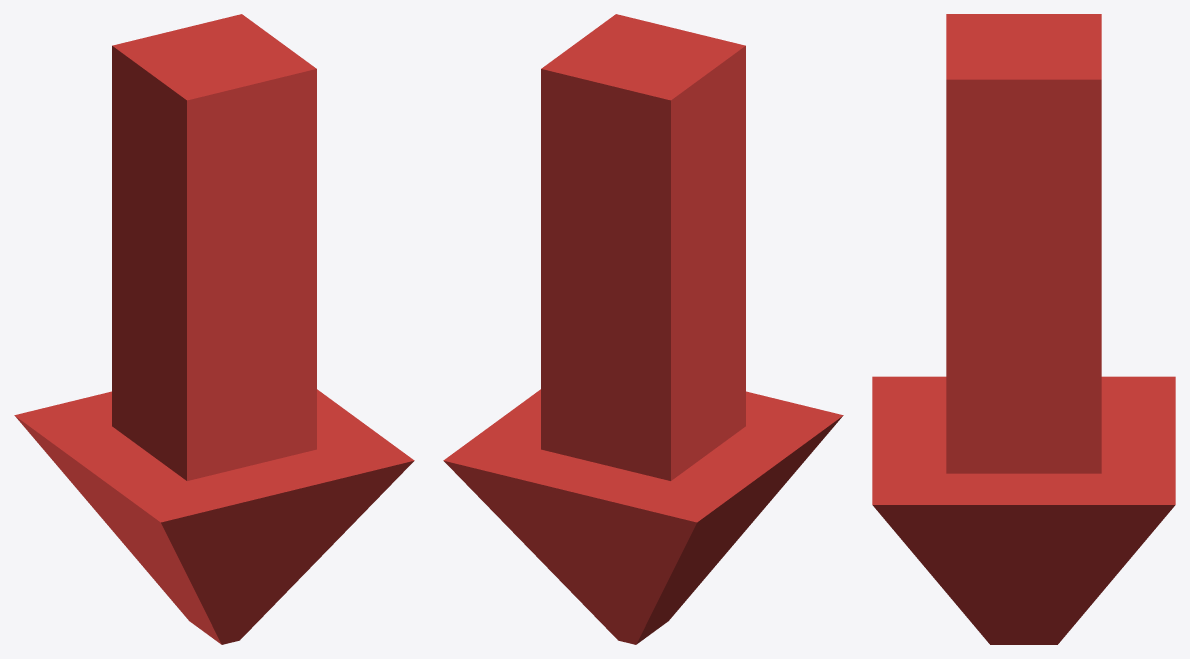
The model's file is Event-Arrow.fbx.
3 views of the same model, side by side, from view 1: azimuth 30°, elevation 25°; view 2: azimuth 150°, elevation 25°; view 3: azimuth 270°, elevation 25° (orthographic). The views are drawn at different scales.
Parts seen in each view (by area): view 1: Event-Arrow; view 2: Event-Arrow; view 3: Event-Arrow.
Part boxes in pixels (box(x1,y1,x2,y2)): Event-Arrow: box(14, 14, 414, 644); Event-Arrow: box(443, 14, 843, 644); Event-Arrow: box(872, 14, 1175, 644).
Bounding box in the file's own units: 262 × 565 × 262.
Materials: 1 (1 with a texture image).
